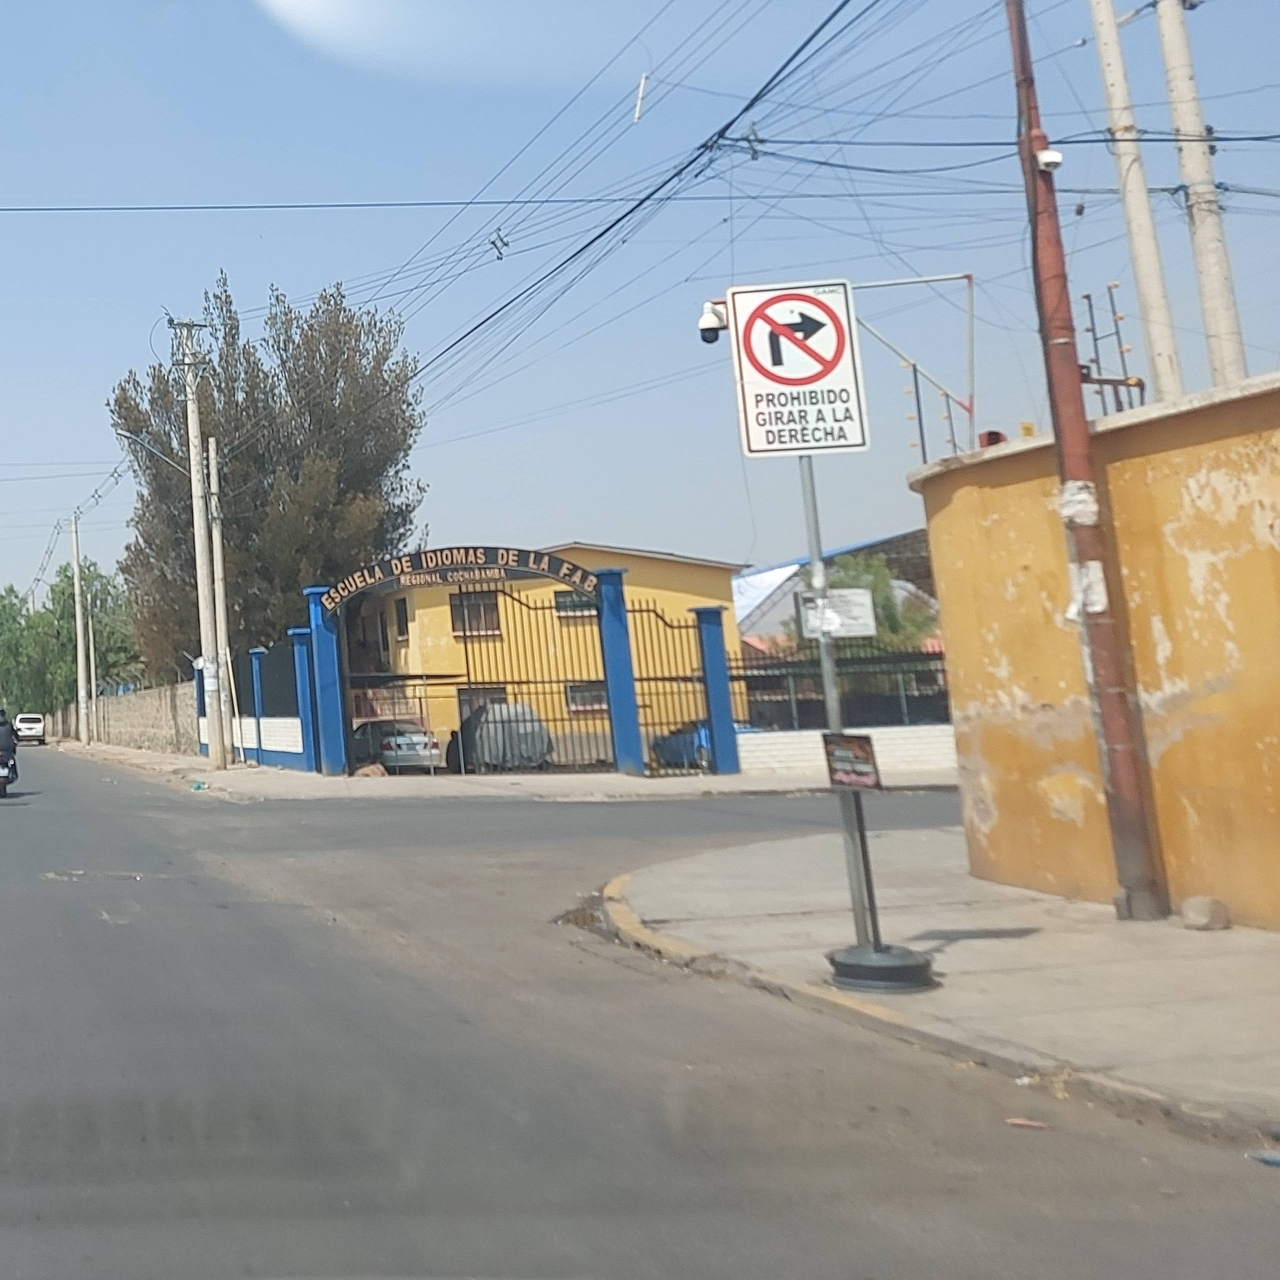prohibido-girar-derecha: (728, 279, 873, 454)
